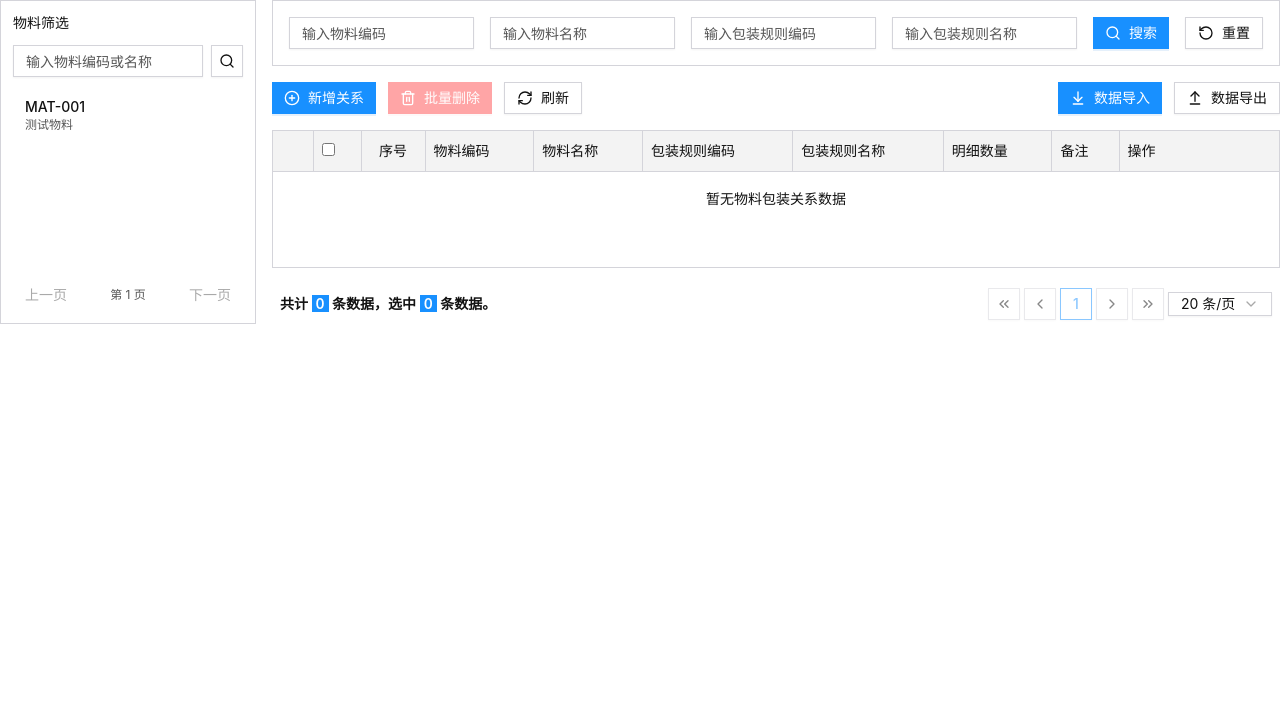
MaterialPackagingRelationPage › prefills filters and create dialog from the selected sidebar material
The image size is (1280, 720).
Step 1. Click the button with test id "material-sidebar-item-MAT-001" → (128, 115), box [13, 89, 243, 141]
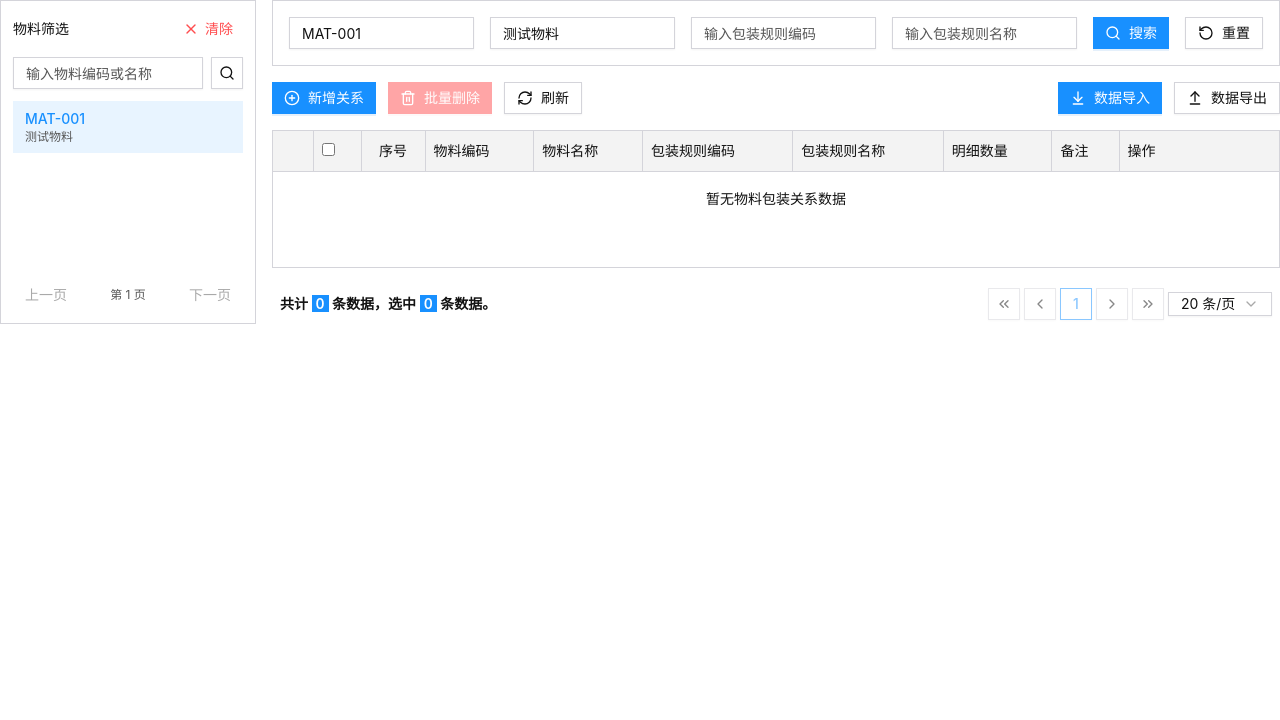
Expected: the field named "物料编码" holds "MAT-001", [289, 17, 474, 49]
Expected: the field named "物料名称" holds "测试物料", [490, 17, 675, 49]
Step 2. Click the button "新增关系" → (324, 98), box [272, 82, 376, 114]
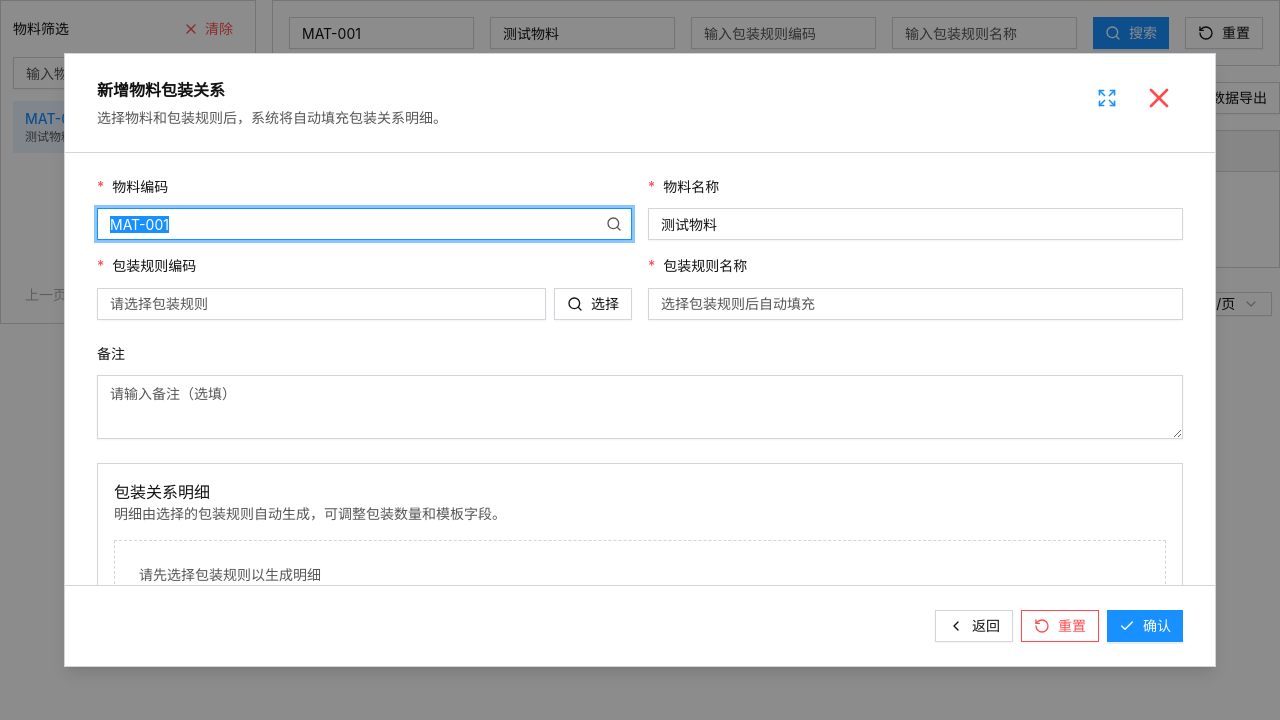
Expected: the field with test id "mpr-form-material-code" holds "MAT-001", [98, 208, 602, 240]
Expected: the field with test id "mpr-form-material-name" holds "测试物料", [648, 208, 1183, 240]
